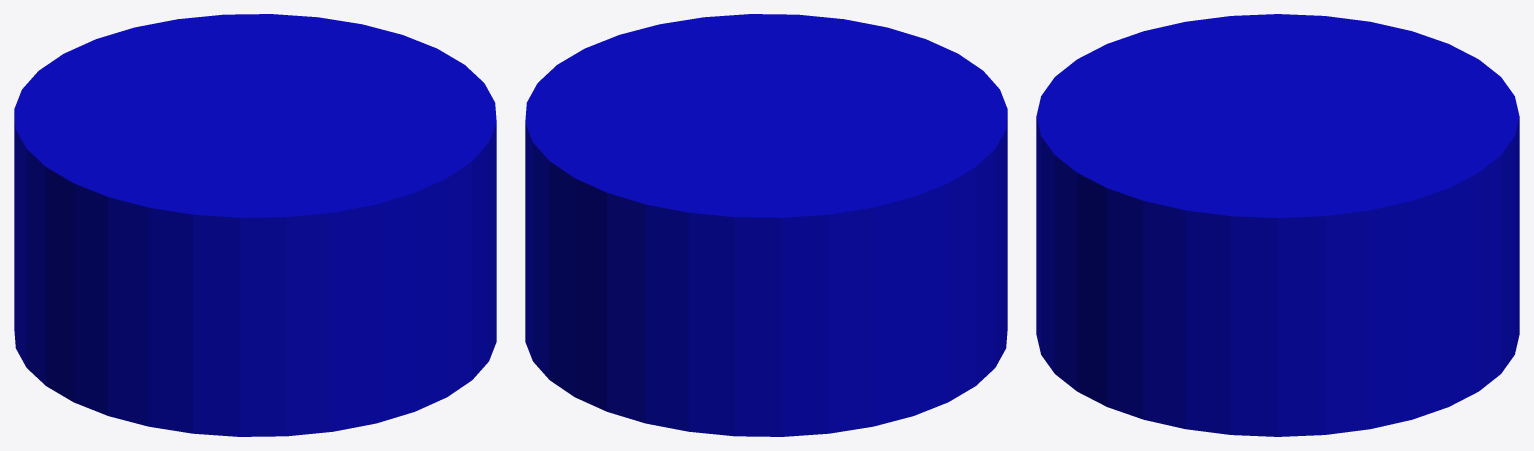
Rendered from Szachownica_cube_black.obj.
The picture shows the model from 3 angles, left to right: view 1: azimuth 30°, elevation 25°; view 2: azimuth 150°, elevation 25°; view 3: azimuth 270°, elevation 25°; orthographic projection.
Parts seen in each view (by area): view 1: Cylinder; view 2: Cylinder; view 3: Cylinder.
Part boxes in pixels (left/top/right/bottom): Cylinder: left=14, top=14, right=496, bottom=436; Cylinder: left=525, top=14, right=1007, bottom=436; Cylinder: left=1036, top=14, right=1519, bottom=436.
Size of the model in its own units: 2 by 1 by 2.
